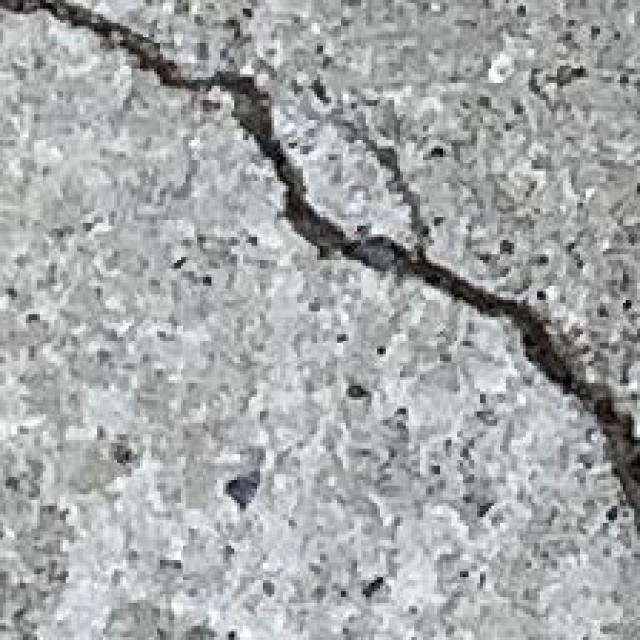Crack: (3, 3, 640, 534)
